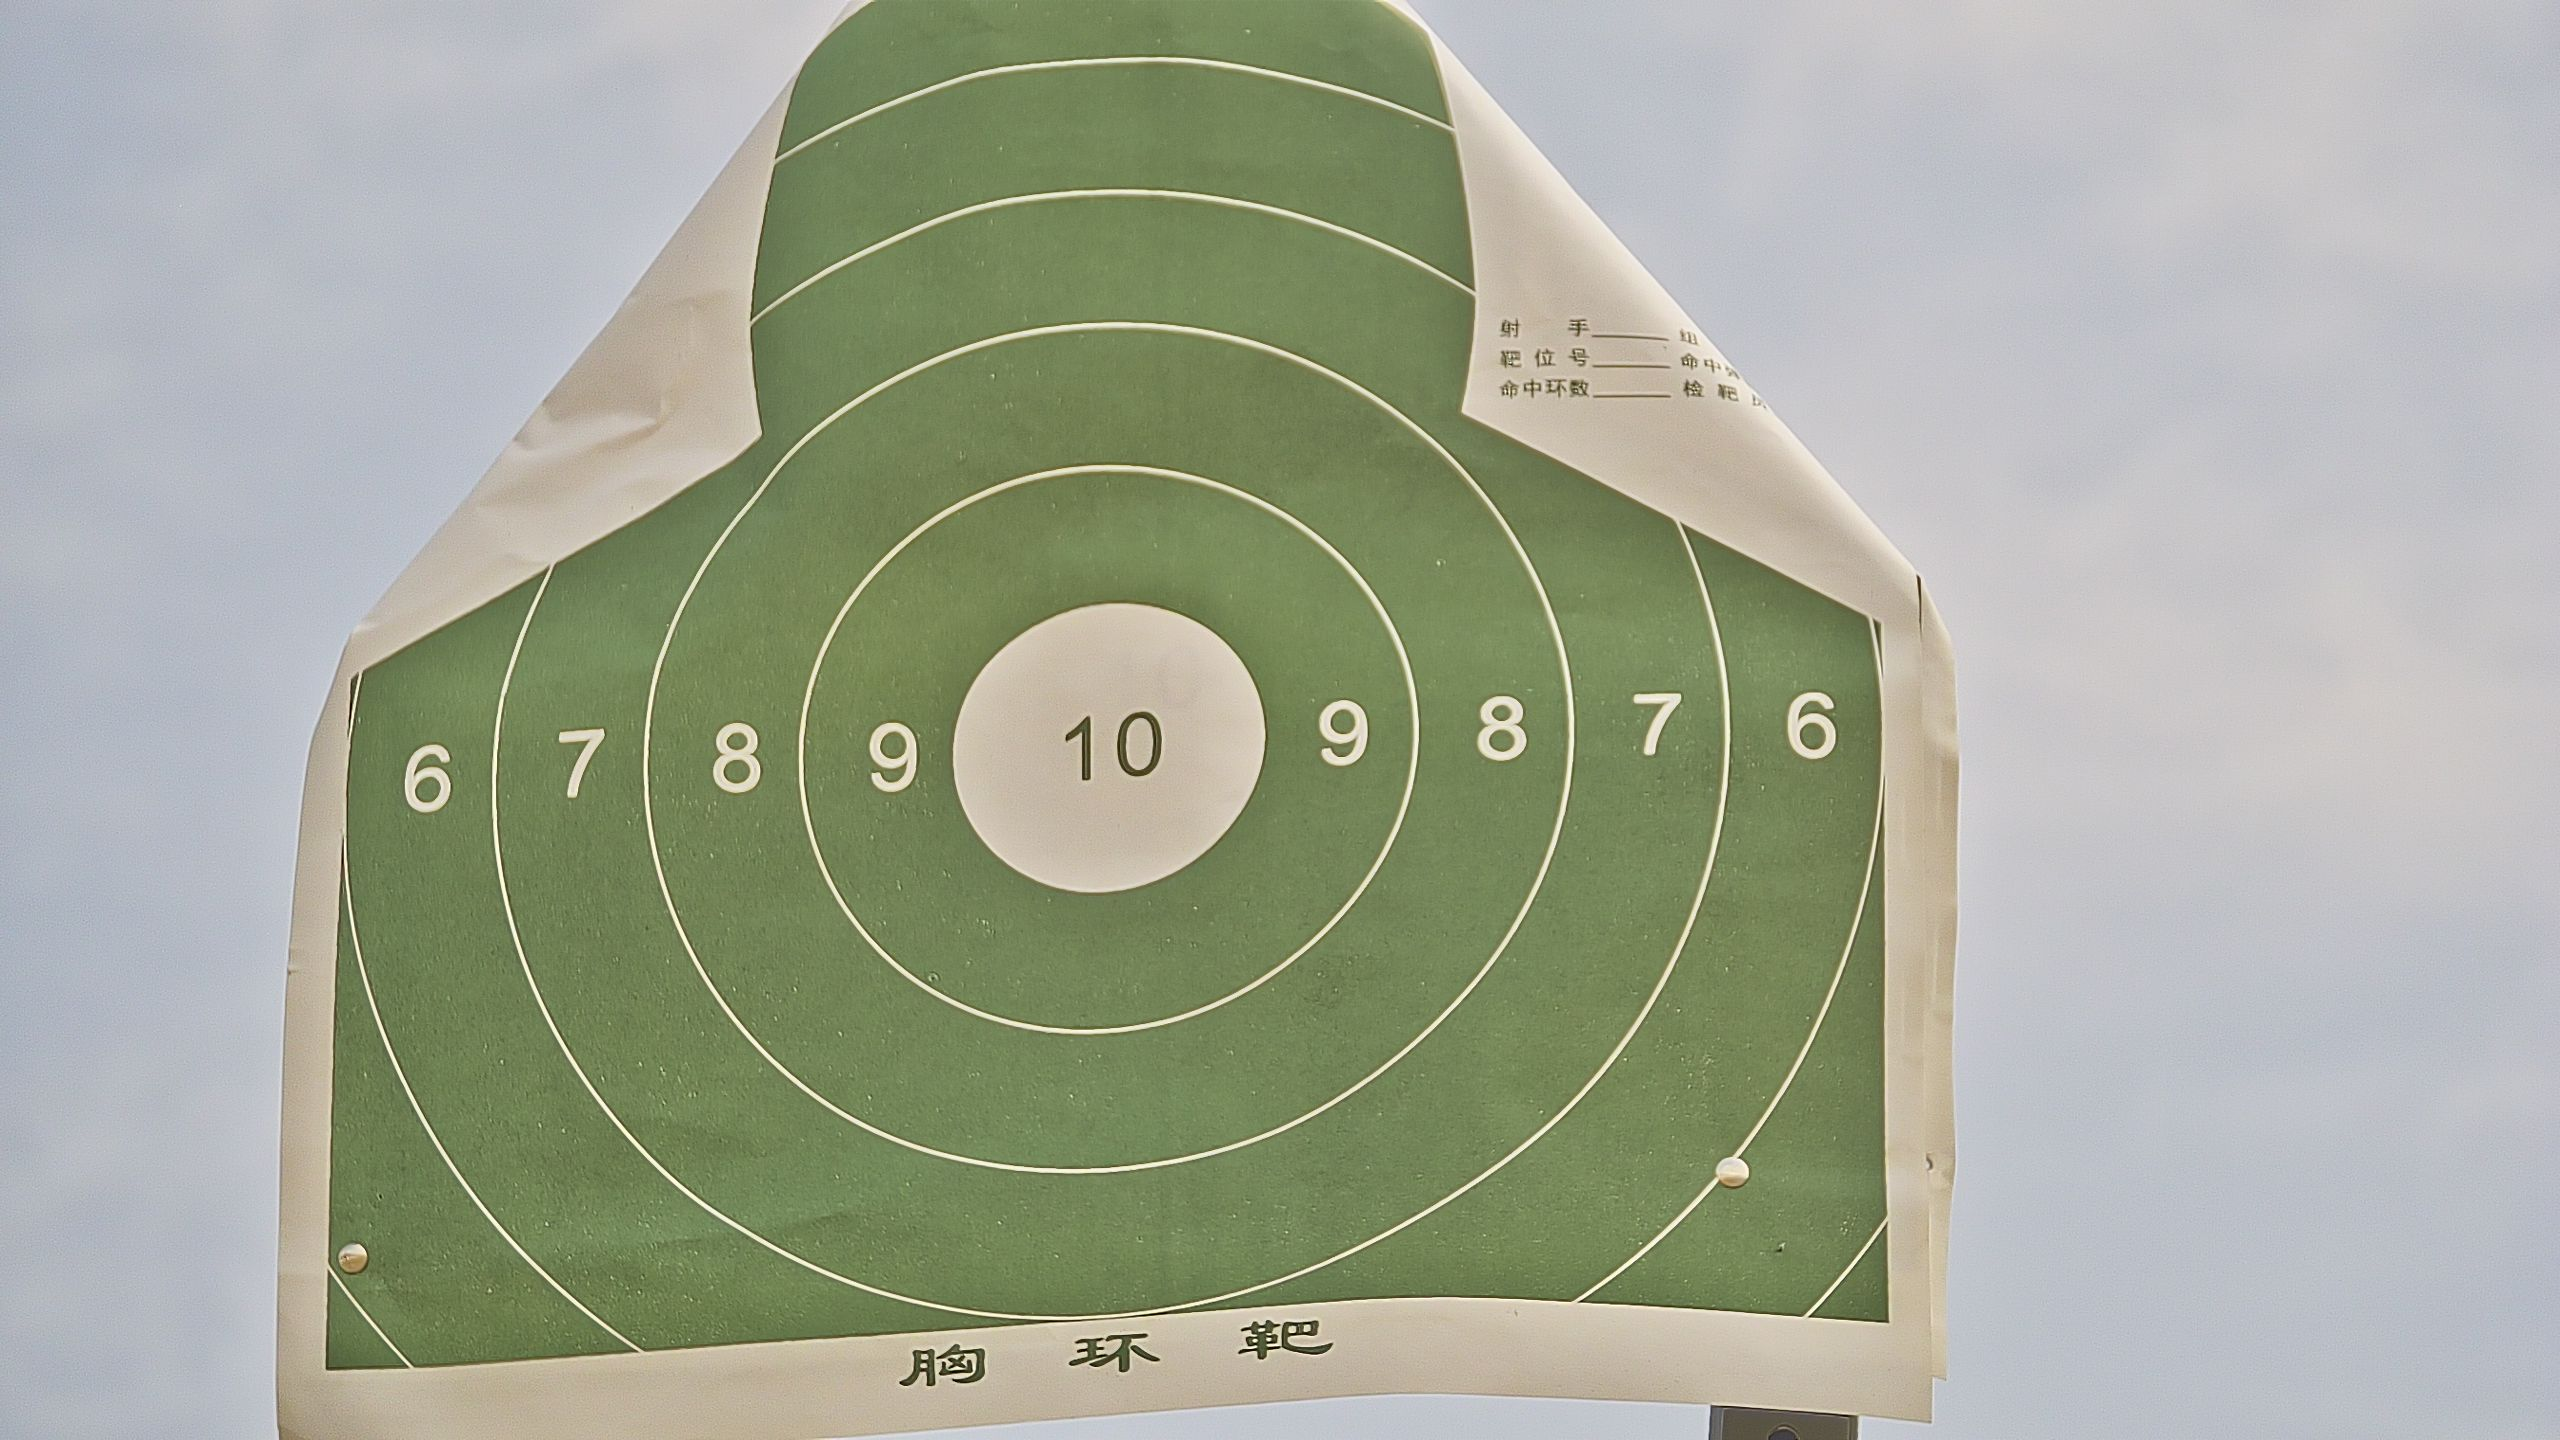kernel: (1101, 745, 1104, 754)
target: (325, 18, 1890, 1368)
ten: (944, 601, 1273, 895)
